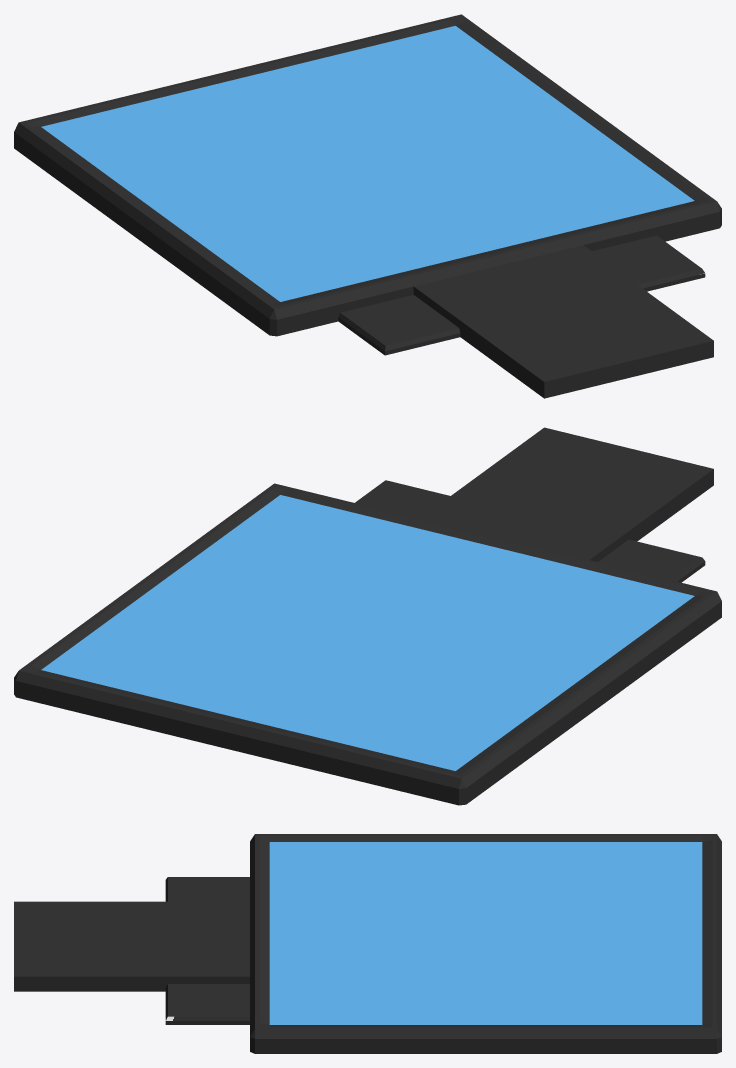
The model's file is Bidding Pad.fbx.
3 renders of one model, top to bottom at view 1: azimuth 30°, elevation 25°; view 2: azimuth 150°, elevation 25°; view 3: azimuth 270°, elevation 25°, orthographic. The views are drawn at different scales.
Visible parts, largest first — view 1: Pad; view 2: Pad; view 3: Pad.
Boxes of the visible parts, x1,y1,x2,y2 form: Pad: (14, 14, 721, 398); Pad: (14, 427, 721, 805); Pad: (14, 834, 721, 1053).
Size of the model in its own units: 100 by 5.25 by 150.
